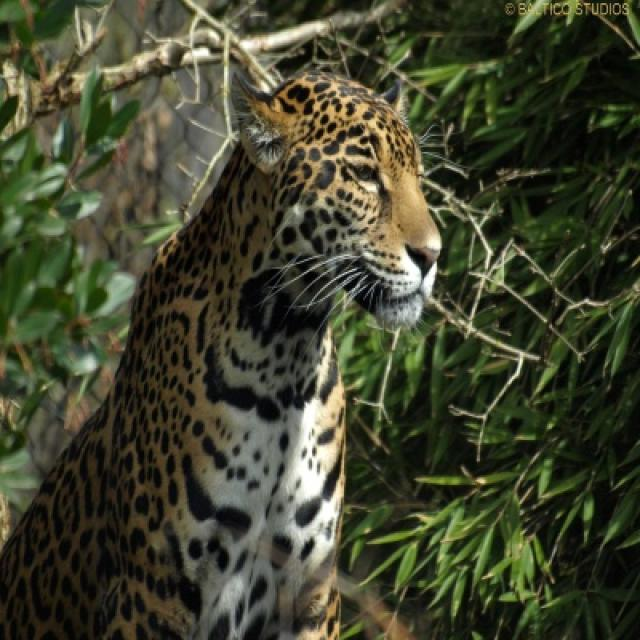Jaguar: (0, 74, 443, 638)
